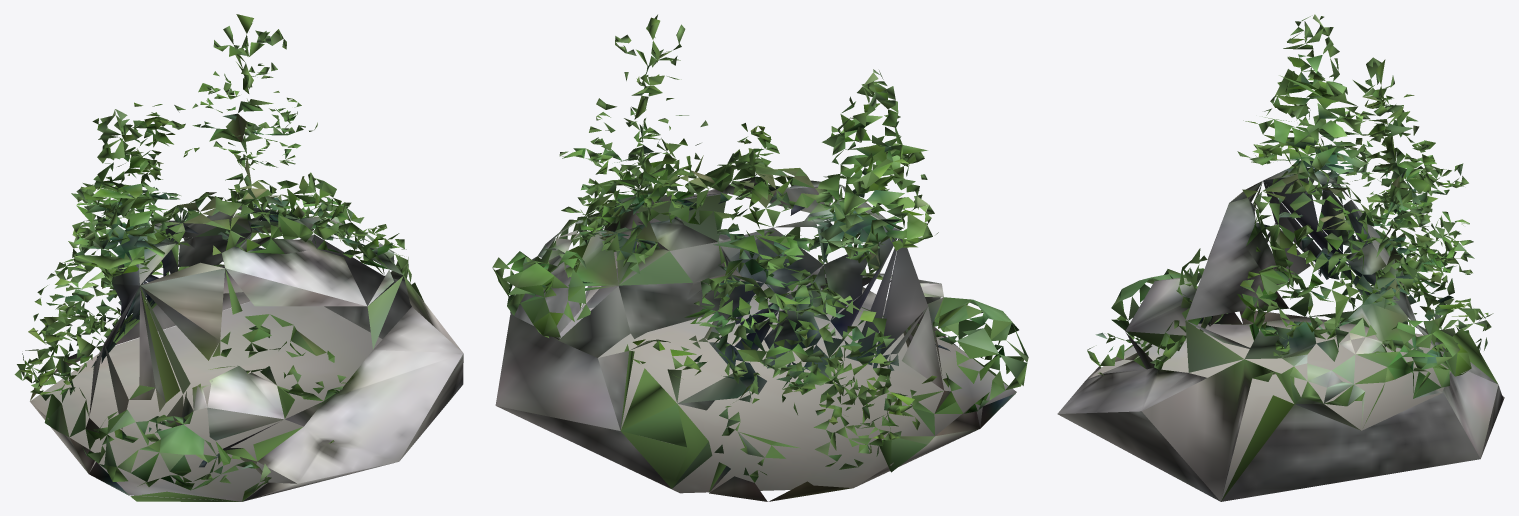
Rendered from Pine_Trees_on_a_Rocky_town.glb.
3 views of the same model, side by side, from view 1: azimuth 30°, elevation 25°; view 2: azimuth 150°, elevation 25°; view 3: azimuth 270°, elevation 25° (orthographic). The views are drawn at different scales.
Parts seen in each view (by area): view 1: Pine_Trees_on_a_Rocky; view 2: Pine_Trees_on_a_Rocky; view 3: Pine_Trees_on_a_Rocky.
Part boxes in pixels (x1,y1,x2,y2): Pine_Trees_on_a_Rocky: [14, 14, 463, 501]; Pine_Trees_on_a_Rocky: [492, 14, 1028, 501]; Pine_Trees_on_a_Rocky: [1057, 14, 1504, 501].
Size of the model in its own units: 1.88 by 1.73 by 1.87.
1 material, 1 textured.
